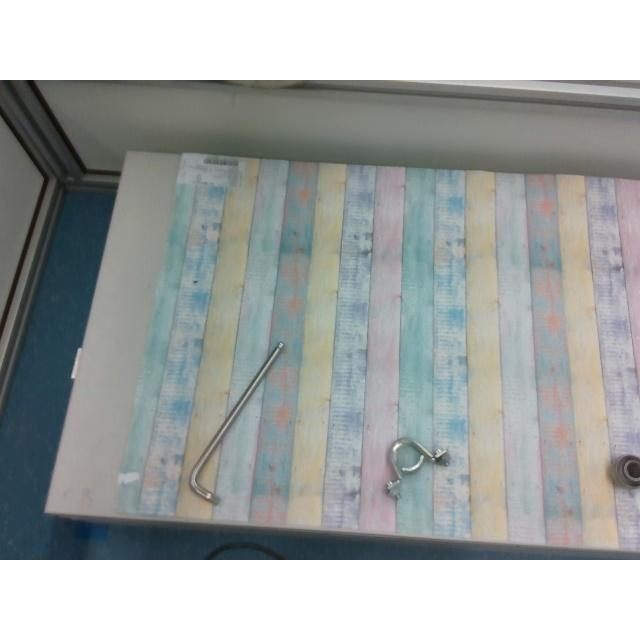AllenKey: (189, 341, 285, 504)
Bearing2: (610, 454, 638, 491)
Housing: (386, 436, 450, 502)
